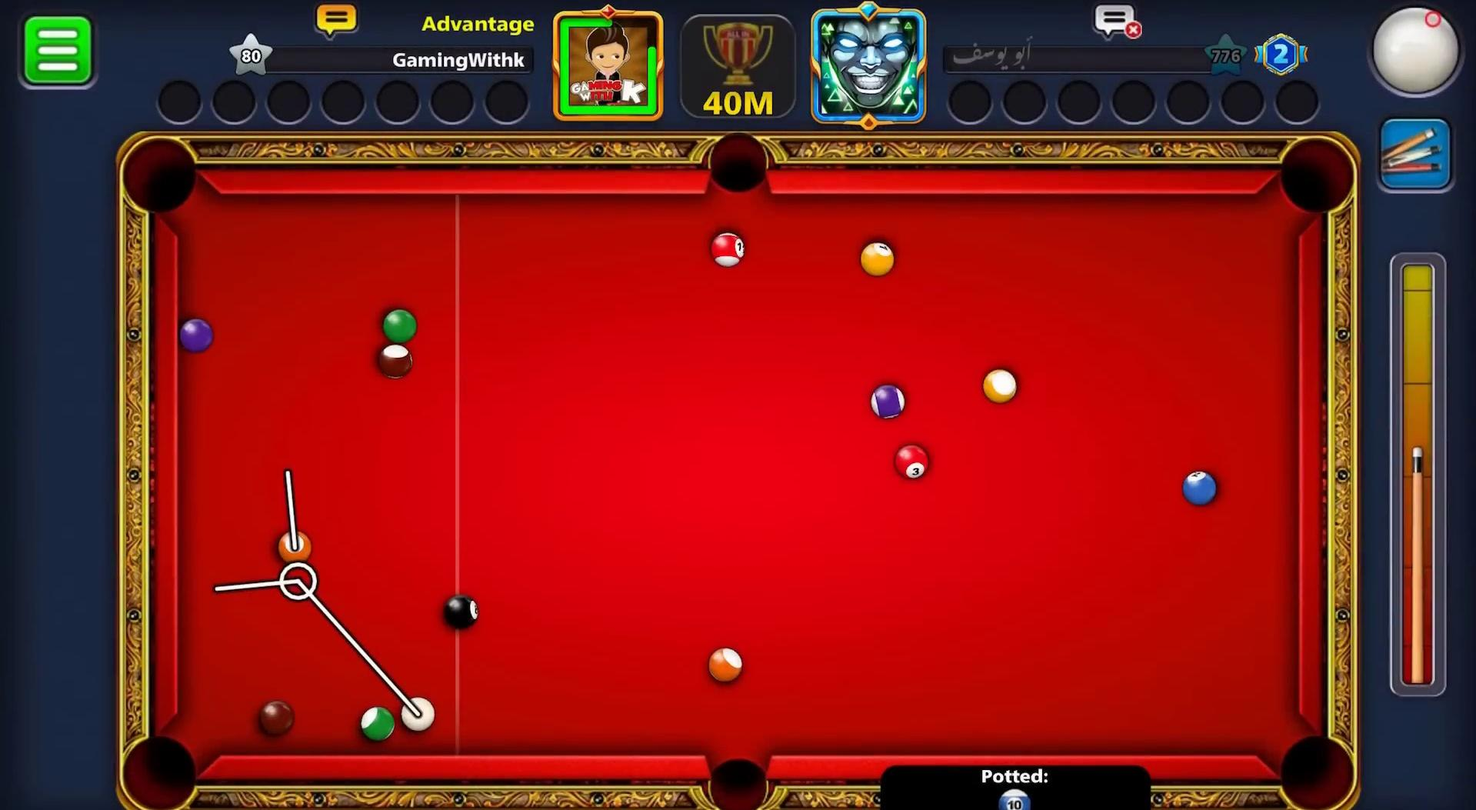Ball: (253, 692, 299, 744), (433, 593, 487, 636), (353, 700, 400, 745), (977, 364, 1028, 404), (1180, 466, 1222, 513), (893, 442, 932, 485), (277, 522, 313, 565), (870, 380, 906, 421), (710, 233, 747, 271), (376, 342, 413, 379), (856, 244, 892, 281), (709, 645, 744, 682), (380, 307, 415, 343), (184, 316, 211, 355), (997, 787, 1030, 810)
Force: (1392, 254, 1451, 698)
Guideline: (210, 568, 425, 721), (276, 462, 301, 545), (277, 564, 319, 601)
Hole: (1272, 132, 1356, 220), (1275, 731, 1352, 810), (124, 135, 202, 212), (126, 730, 202, 805), (702, 748, 771, 810), (708, 131, 768, 191)
Play_Area: (181, 192, 1293, 753)
Spin: (1360, 4, 1462, 99)
White: (401, 693, 440, 733)
